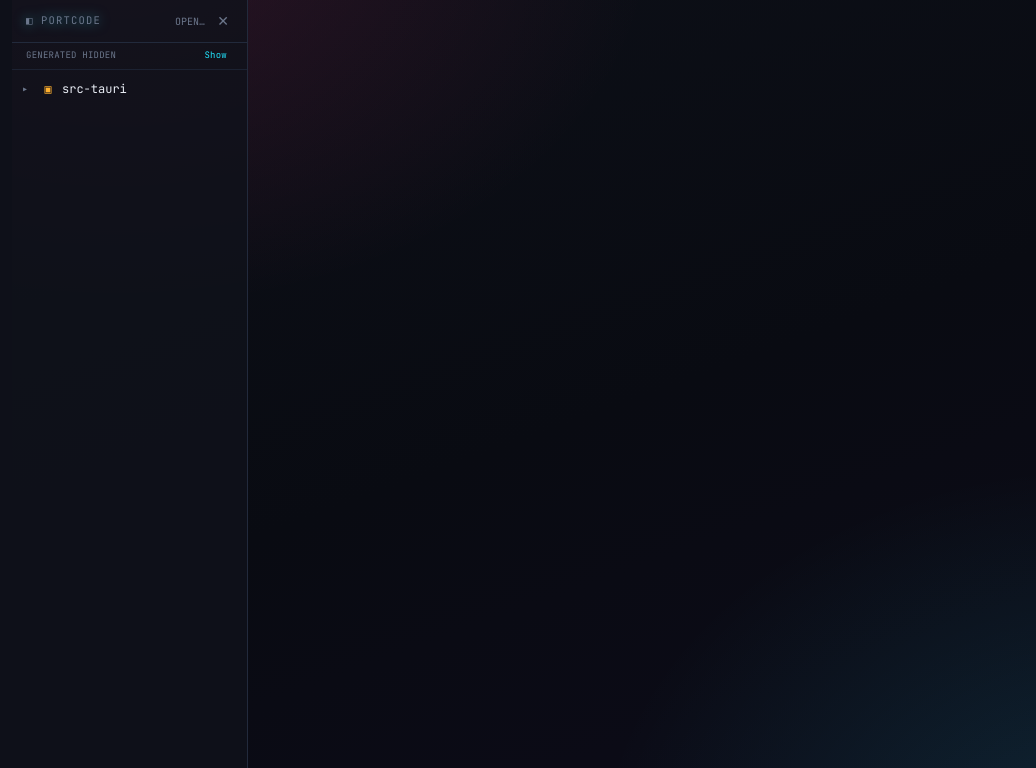
Test: FileExplorer generated-directory view › applies the generated filter inside expanded source folders
Click the list item with aria-label "src-tauri folder" at (130, 88), box [12,76,247,102]
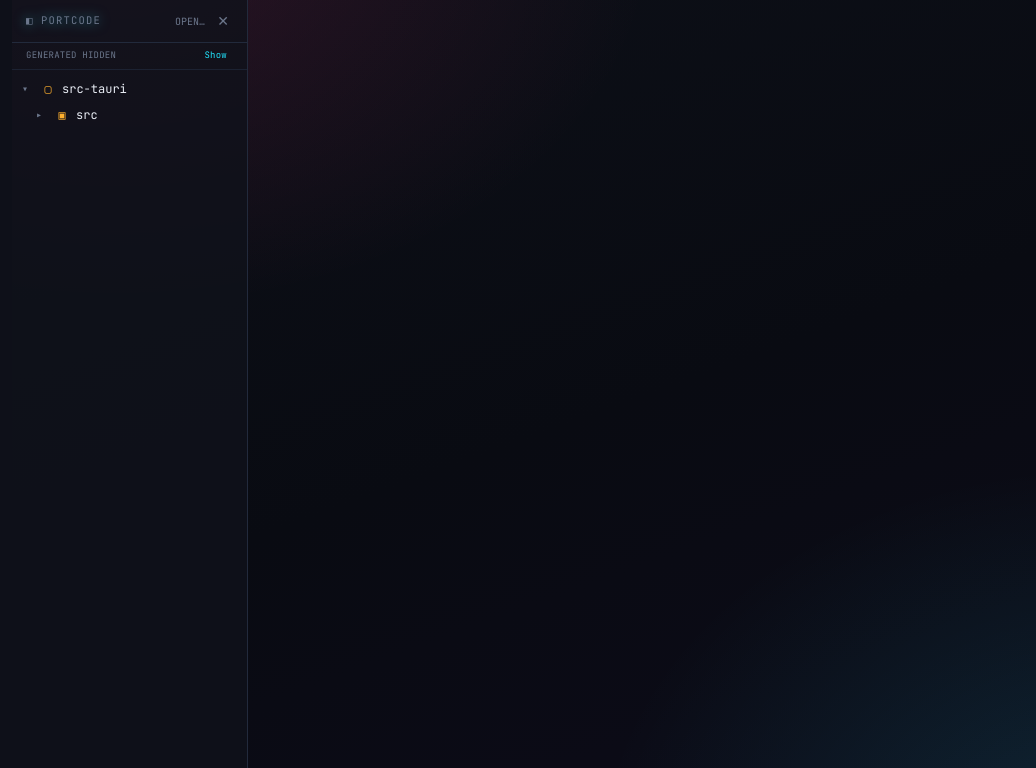
Check: the list item with aria-label "src folder" is shown, box [12,102,247,128]
Click the button with aria-label "Show generated and internal folders" at (216, 56), box [198,47,233,64]
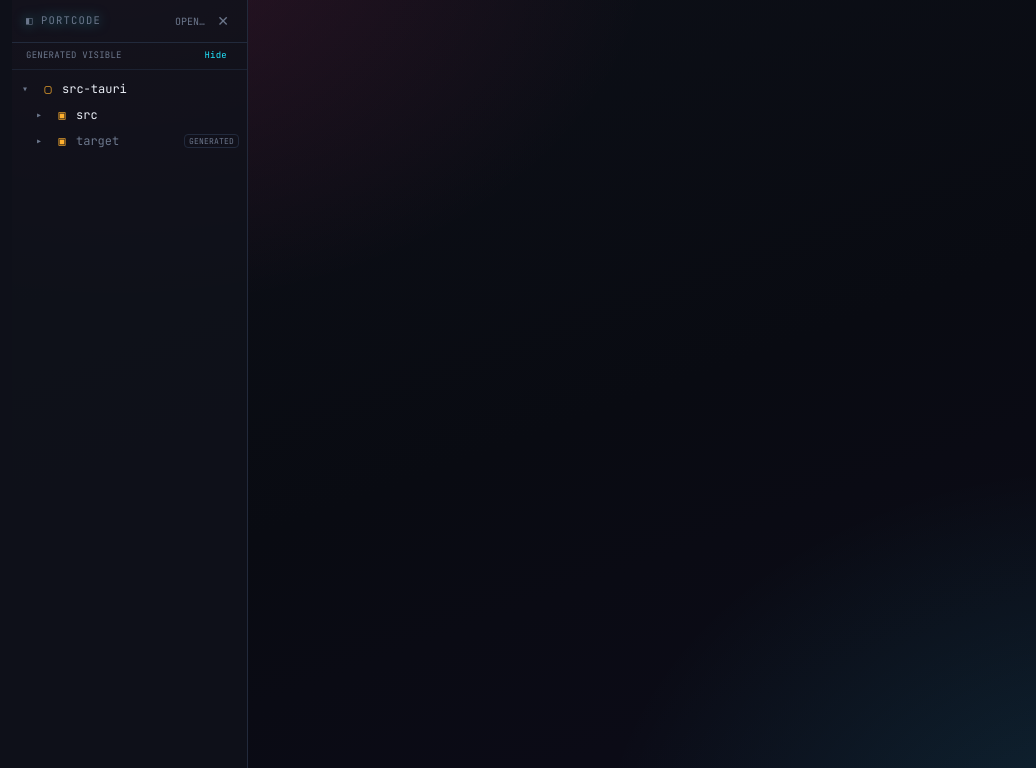
Check: the list item with aria-label "target folder, generated" is shown, box [12,128,247,154]
